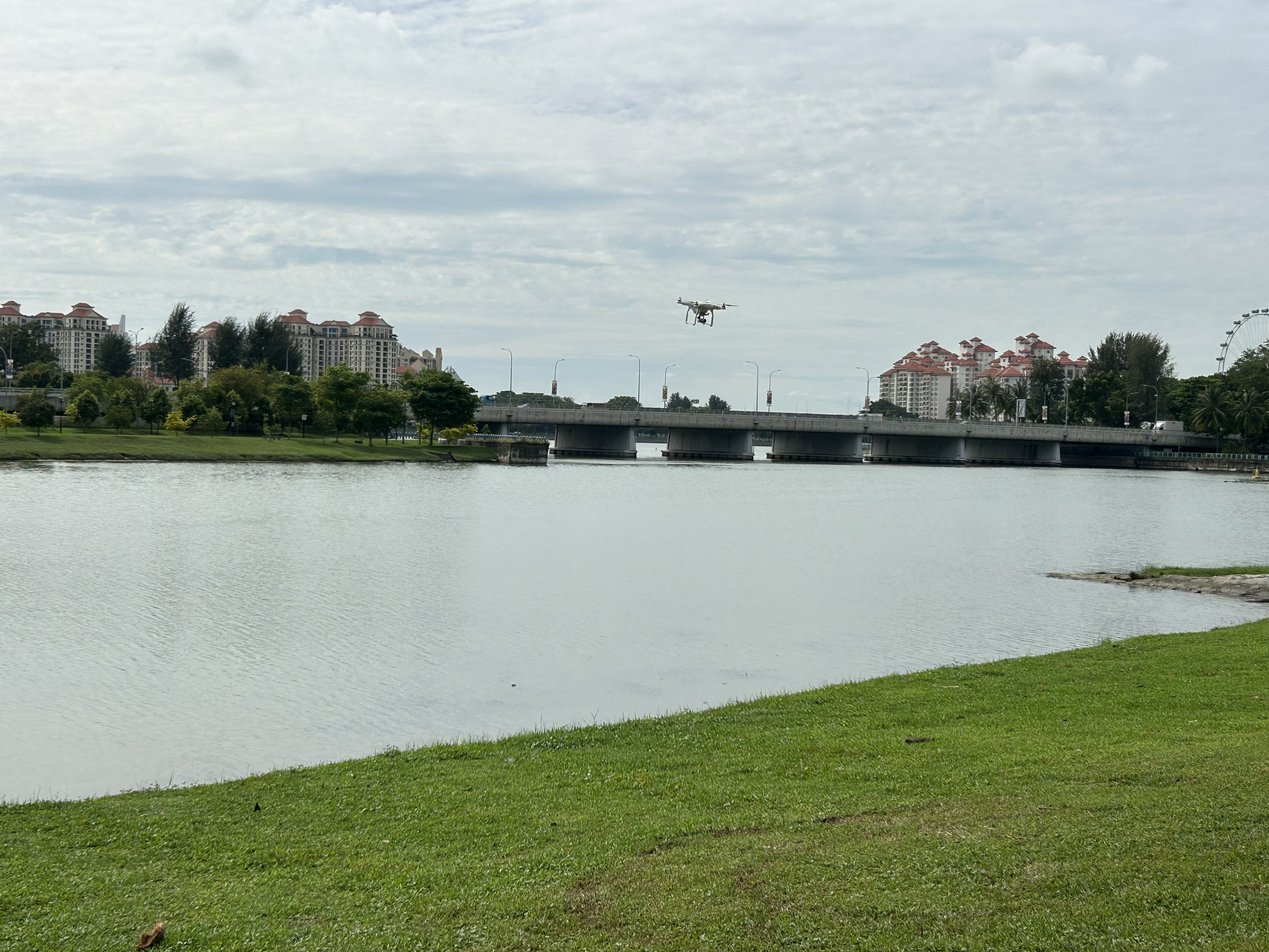drone_other: (673, 295, 740, 328)
